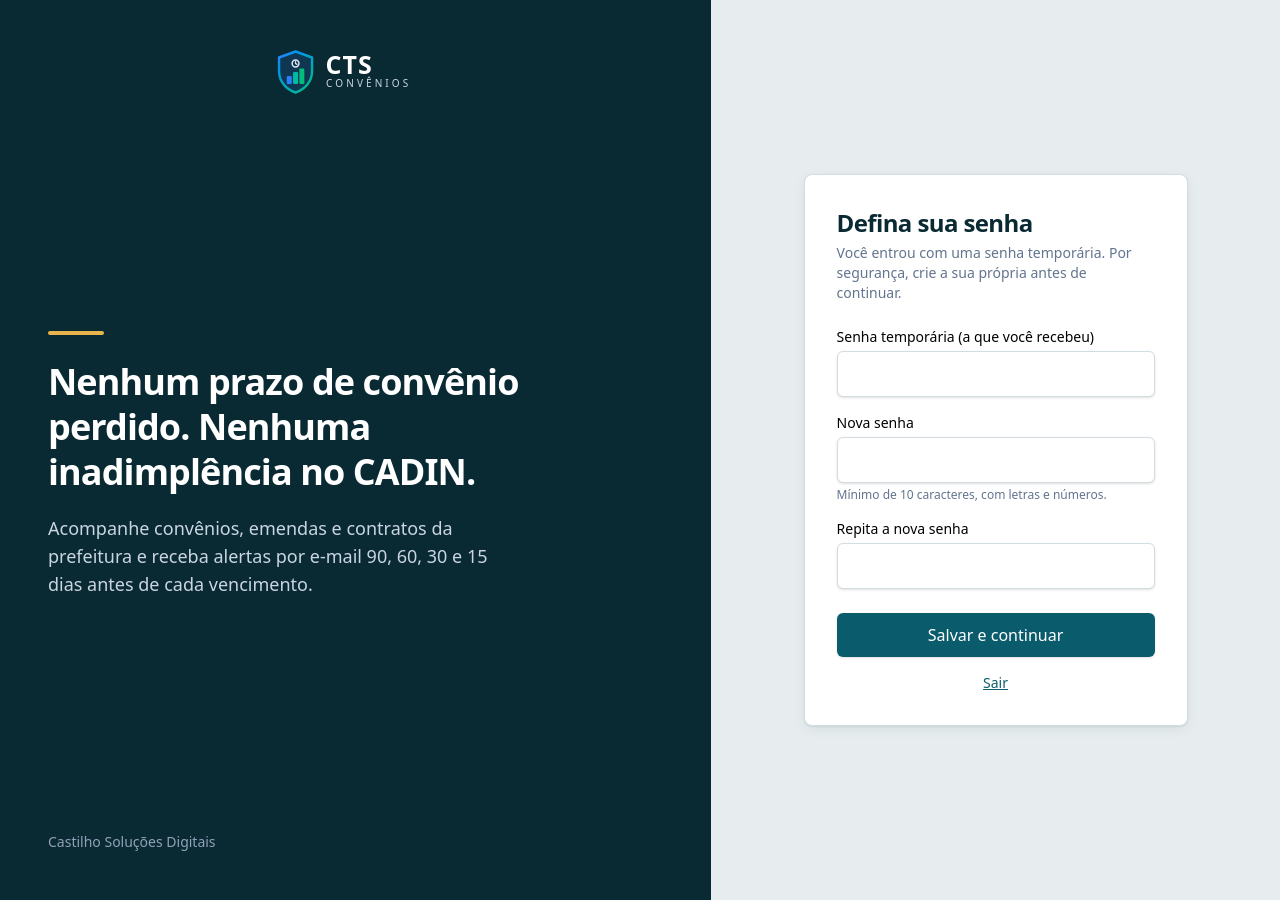
Troca obrigatória da senha temporária › senha temporária errada mostra o erro e continua na tela
Type "errada" into the password field labelled "Senha temporária (a que você recebeu)" at (996, 374), box [836,351,1154,397]
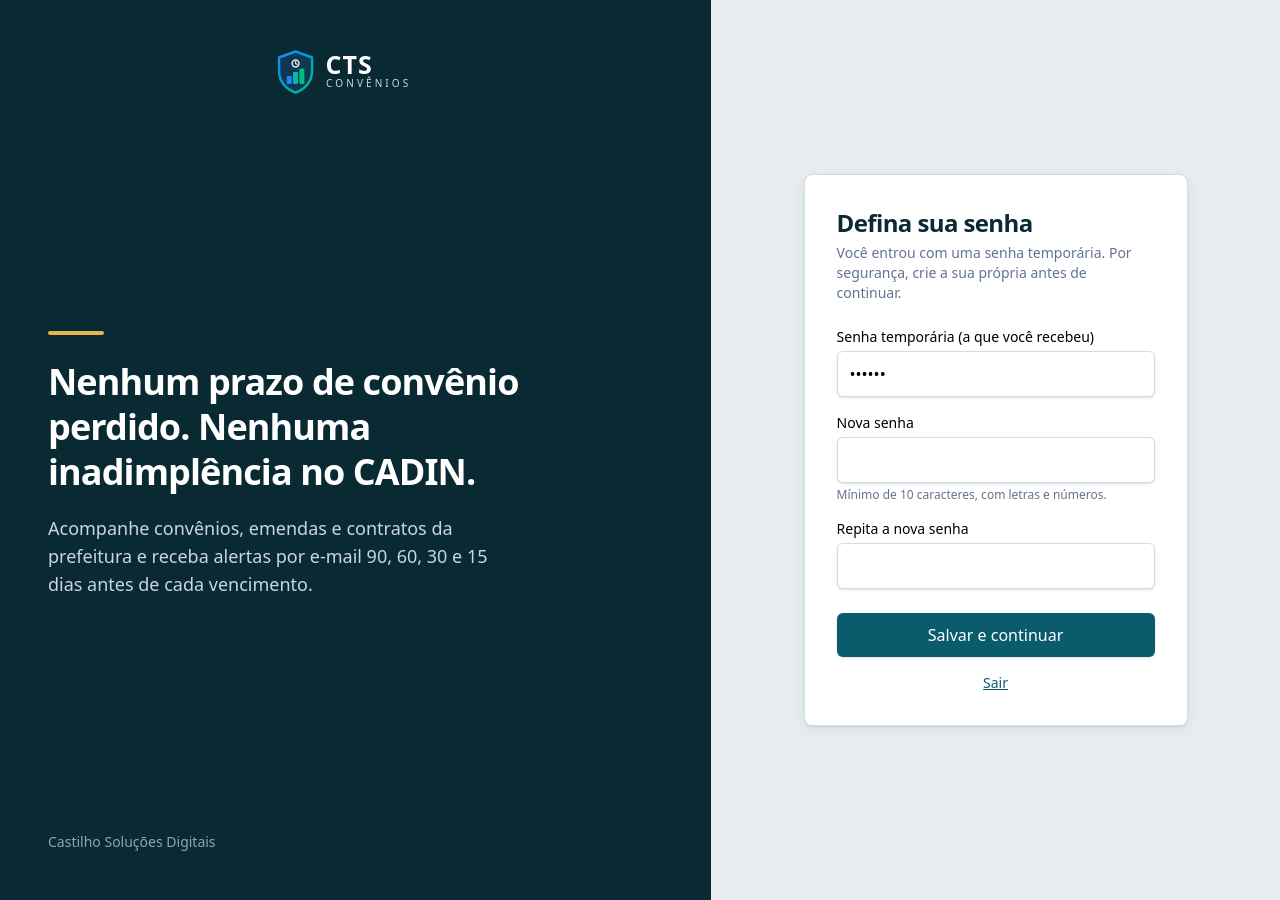
Type "MinhaSenhaPropria99" into the password field labelled "Nova senha" at (996, 460), box [836,437,1154,483]
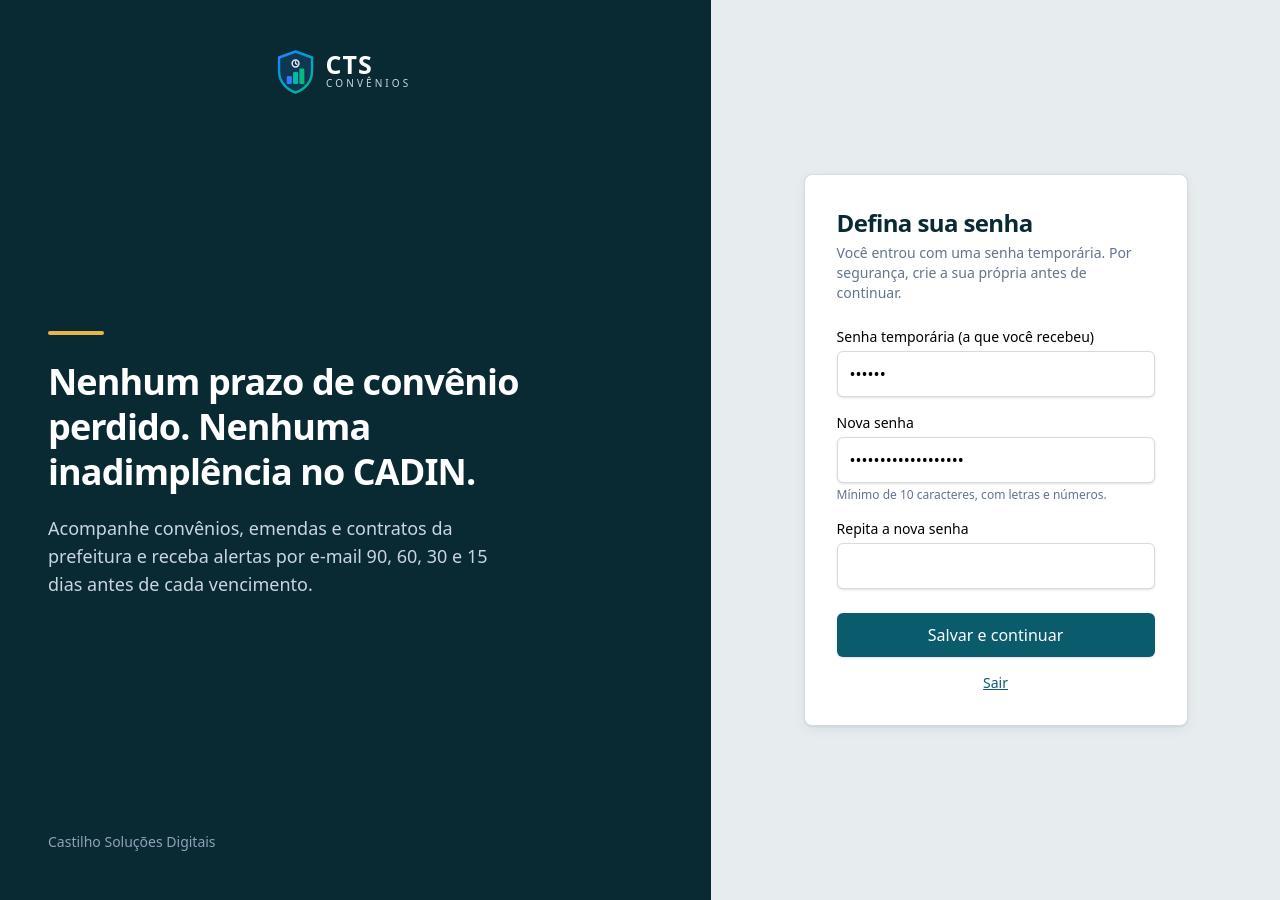
Type "MinhaSenhaPropria99" into the password field labelled "Repita a nova senha" at (996, 566), box [836,543,1154,589]
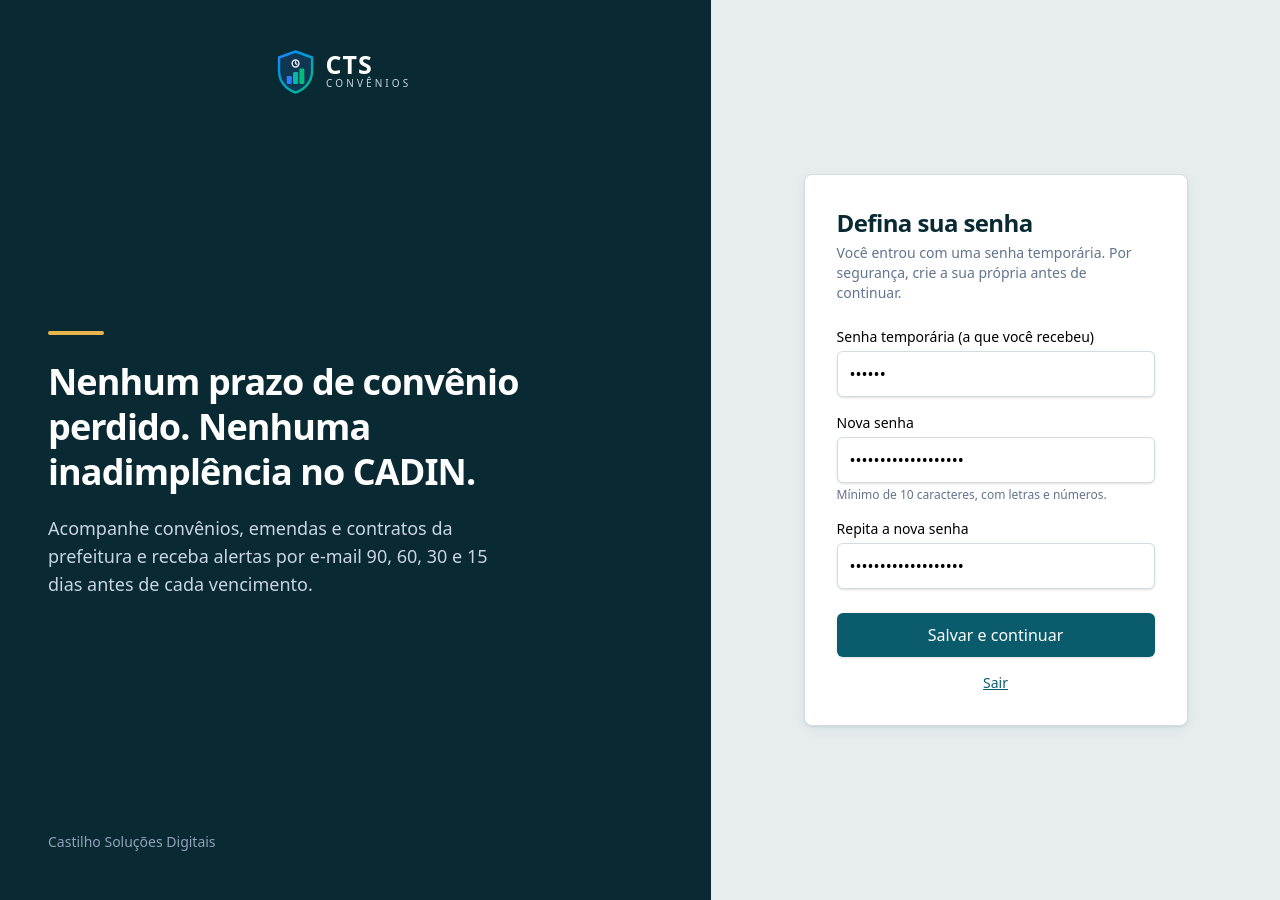
Submit the form, box [804,174,1188,726]
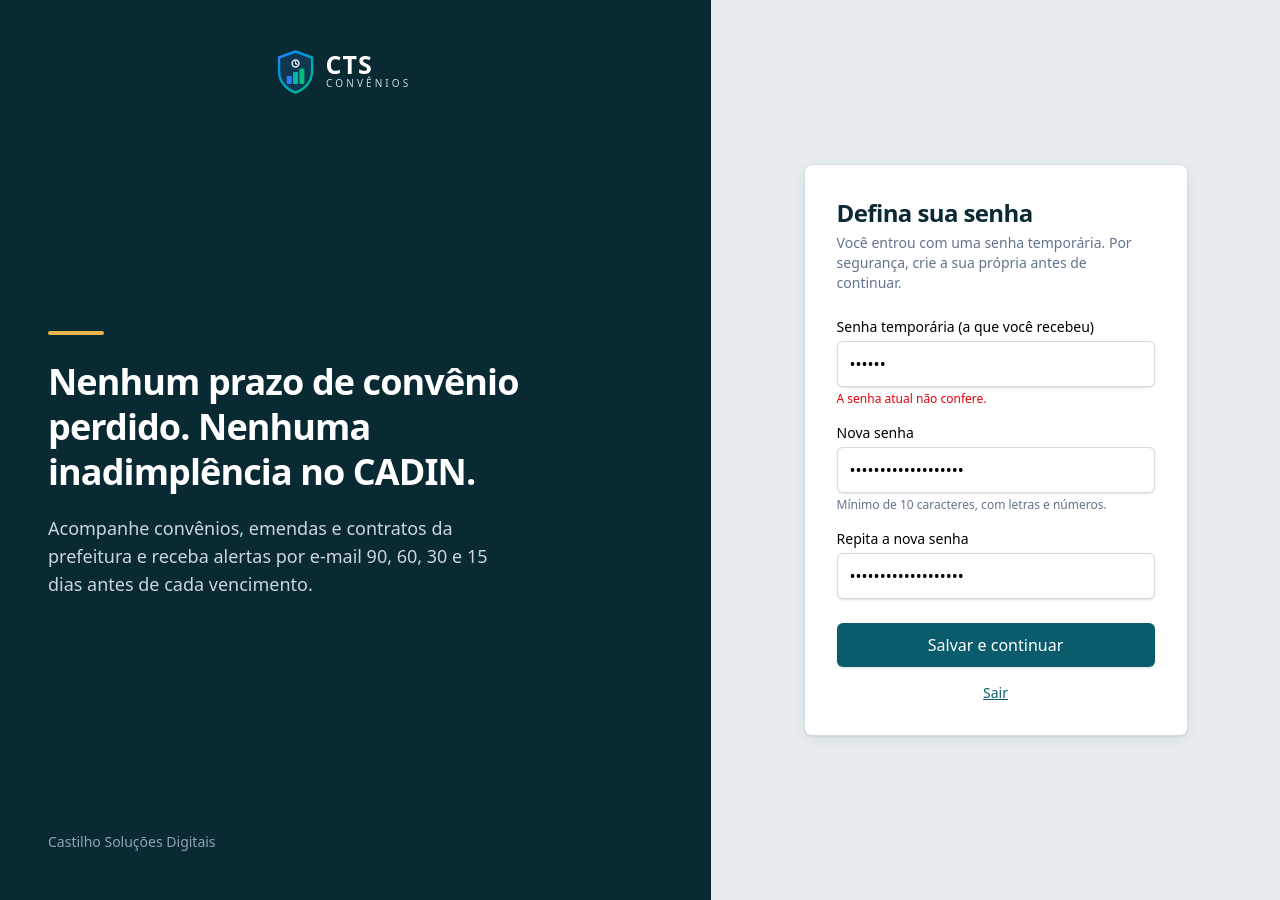
expect the text "A senha atual não confere." is shown: met, box [836,390,986,407]
